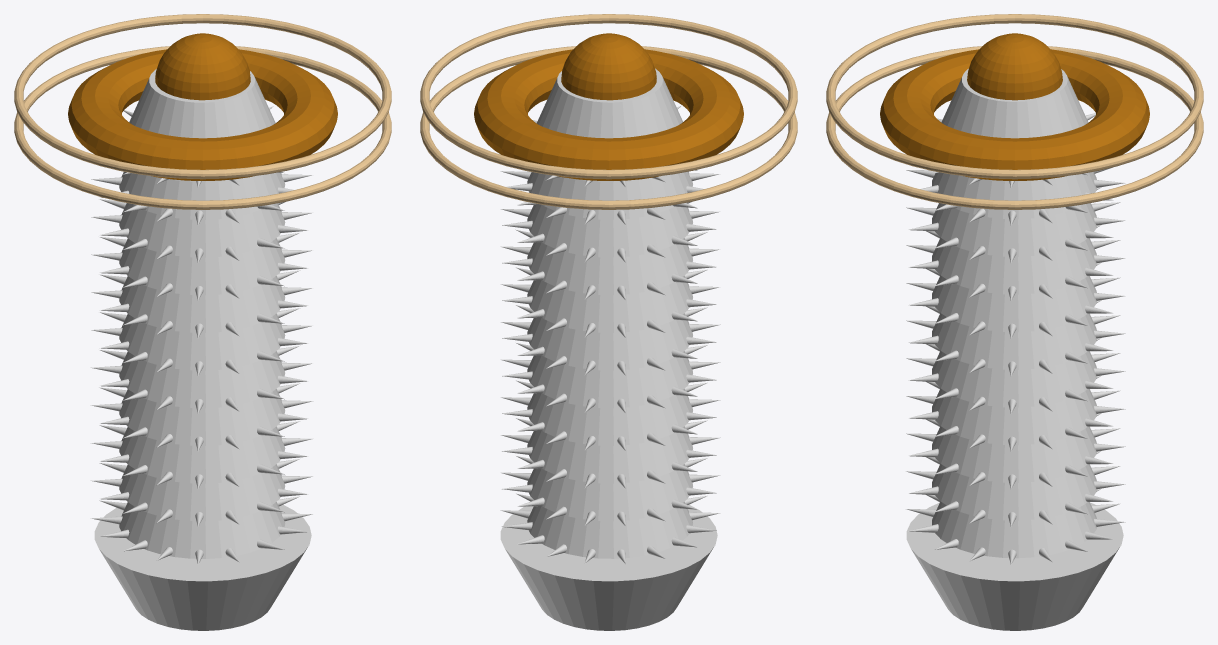
File: teslacoil.dae
The picture shows the model from 3 angles, left to right: view 1: azimuth 30°, elevation 25°; view 2: azimuth 150°, elevation 25°; view 3: azimuth 270°, elevation 25°; orthographic projection.
Visible parts, largest first — view 1: Torus, Cylinder.001, Torus.002, Torus.001, Cone.003, Cone.007, Cone.004, Cone.006, Cone.005, Cone.002, Cone.008, Cone.001 (+4 smaller); view 2: Torus, Cylinder.001, Torus.002, Torus.001, Cone.005, Cone.002, Cone.008, Cone.004, Cone.006, Cone.003, Cone.001, Cone.007 (+4 smaller); view 3: Torus, Cylinder.001, Torus.002, Torus.001, Cone.006, Cone.003, Cone.002, Cone.005, Cone.008, Cone.004, Cone.001, Cone.007 (+4 smaller).
Part boxes in pixels (<box>): Torus: <box>68,49,337,180</box>; Cylinder.001: <box>94,503,311,630</box>; Torus.002: <box>14,14,391,179</box>; Torus.001: <box>14,46,391,209</box>; Cone.003: <box>91,421,313,488</box>; Cone.007: <box>91,270,312,338</box>; Cone.004: <box>91,383,313,451</box>; Cone.006: <box>91,308,312,375</box>; Cone.005: <box>91,345,312,413</box>; Cone.002: <box>91,458,313,526</box>; Cone.008: <box>91,233,312,300</box>; Cone.001: <box>91,496,312,564</box>; Torus: <box>474,49,743,180</box>; Cylinder.001: <box>500,504,717,630</box>; Torus.002: <box>420,14,797,179</box>; Torus.001: <box>420,46,797,209</box>; Cone.005: <box>501,343,720,413</box>; Cone.002: <box>501,456,720,526</box>; Cone.008: <box>501,229,719,300</box>; Cone.004: <box>501,380,720,450</box>; Cone.006: <box>501,305,720,375</box>; Cone.003: <box>501,418,720,488</box>; Cone.001: <box>500,493,720,564</box>; Cone.007: <box>501,267,719,337</box>; Torus: <box>880,49,1149,180</box>; Cylinder.001: <box>906,502,1123,630</box>; Torus.002: <box>826,14,1203,179</box>; Torus.001: <box>826,46,1203,209</box>; Cone.006: <box>906,300,1125,375</box>; Cone.003: <box>906,413,1125,488</box>; Cone.002: <box>906,451,1125,526</box>; Cone.005: <box>906,338,1125,413</box>; Cone.008: <box>906,225,1124,300</box>; Cone.004: <box>906,375,1125,451</box>; Cone.001: <box>906,488,1125,564</box>; Cone.007: <box>906,262,1124,338</box>.
Bounding box in the file's own units: 4.55 × 4.54 × 7.48.
